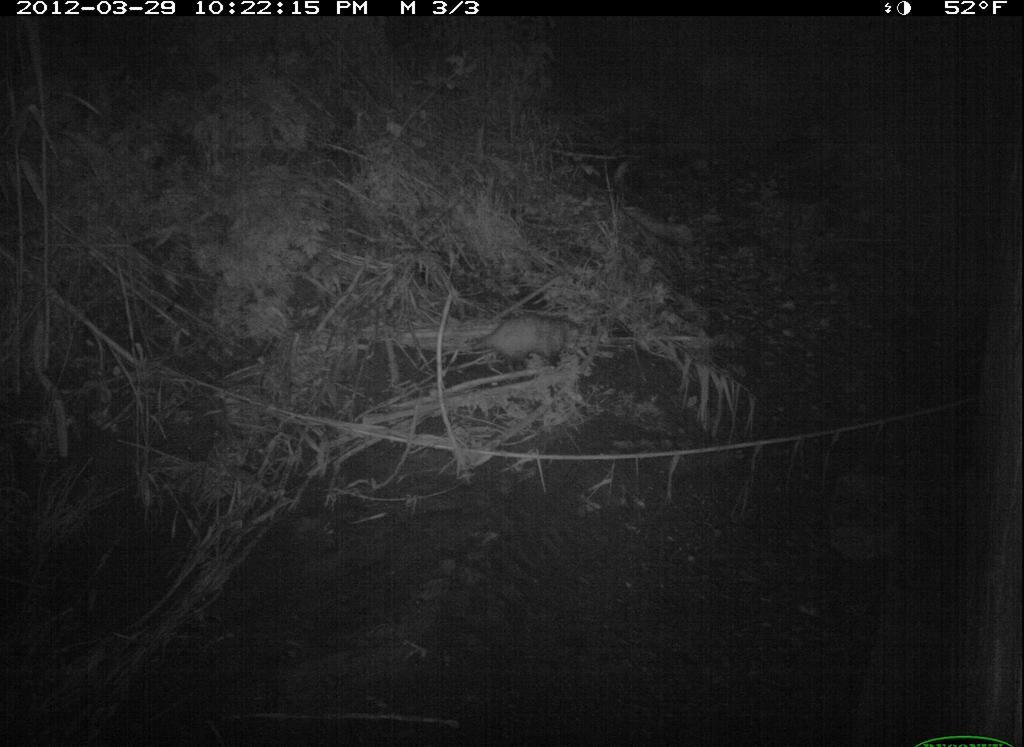opossum: (447, 296, 600, 381)
